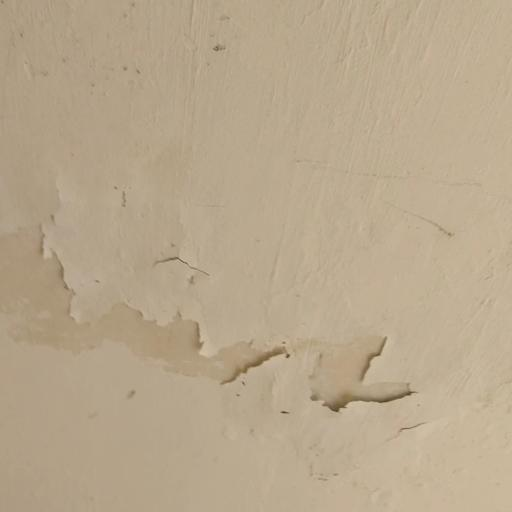peeling: (0, 201, 438, 450)
